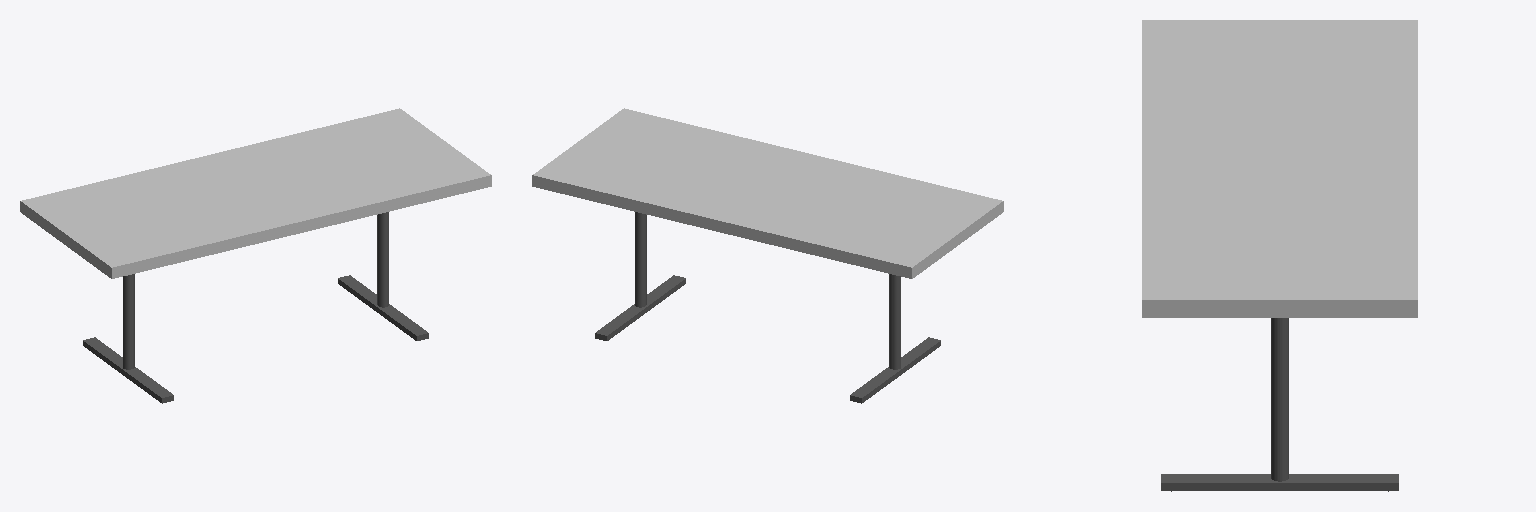
The robot description file, URDF, robot "conference_table":
<robot name="conference_table">
  <link name="base_link">
    <!-- Tabletop -->
    <!-- NOTE: Collision geometry is just bounding box around table. -->
    <collision>
      <origin xyz="0 0 0.371475"/>
      <geometry>
        <box size="1.8288 0.762 0.74295"/>
      </geometry>
    </collision>
    <visual>
      <origin xyz="0 0 0.69"/>
      <geometry>
        <box size="1.8288 0.762 0.05295"/>
      </geometry>
      <material name="gray">
        <color rgba="0.8 0.8 0.8 1.0"/>
      </material>
    </visual>
    <!-- Table Legs -->
    <visual>
      <origin xyz="0.61375 0 0.364"/>
      <geometry>
        <cylinder radius="0.025" length="0.658"/>
      </geometry>
      <material name="dark_gray">
        <color rgba="0.4 0.4 0.4 1.0"/>
      </material>
    </visual>
    <visual>
      <origin xyz="-0.61375 0 0.364"/>
      <geometry>
        <cylinder radius="0.025" length="0.658"/>
      </geometry>
      <material name="dark_gray">
        <color rgba="0.4 0.4 0.4 1.0"/>
      </material>
    </visual>
    <!-- Left table foot -->
    <visual>
      <origin xyz="0.61375 0 0.02"/>
      <geometry>
        <box size="0.06 0.66 0.025"/>
      </geometry>
      <material name="dark_gray">
        <color rgba="0.4 0.4 0.4 1.0"/>
      </material>
    </visual>
    <visual>
      <origin xyz="0.61375 0.30 0.005"/>
      <geometry>
        <cylinder radius="0.015" length="0.01"/>
      </geometry>
      <material name="dark_gray">
        <color rgba="0.4 0.4 0.4 1.0"/>
      </material>
    </visual>
    <visual>
      <origin xyz="0.61375 -0.30 0.005"/>
      <geometry>
        <cylinder radius="0.015" length="0.01"/>
      </geometry>
      <material name="dark_gray">
        <color rgba="0.4 0.4 0.4 1.0"/>
      </material>
    </visual>
    <!-- Right table foot -->
    <visual>
      <origin xyz="-0.61375 0 0.02"/>
      <geometry>
        <box size="0.06 0.66 0.025"/>
      </geometry>
      <material name="dark_gray">
        <color rgba="0.4 0.4 0.4 1.0"/>
      </material>
    </visual>
    <visual>
      <origin xyz="-0.61375 0.30 0.005"/>
      <geometry>
        <cylinder radius="0.015" length="0.01"/>
      </geometry>
      <material name="dark_gray">
        <color rgba="0.4 0.4 0.4 1.0"/>
      </material>
    </visual>
    <visual>
      <origin xyz="-0.61375 -0.30 0.005"/>
      <geometry>
        <cylinder radius="0.015" length="0.01"/>
      </geometry>
      <material name="dark_gray">
        <color rgba="0.4 0.4 0.4 1.0"/>
      </material>
    </visual>
  </link>
</robot>

--- What the picture shows (computed from the rendered views, not written in the file) ---
The picture shows the robot from 3 angles, left to right: view 1: azimuth 30°, elevation 25°; view 2: azimuth 150°, elevation 25°; view 3: azimuth 270°, elevation 25°; orthographic projection.
Robot: conference_table — 1 links, 0 joints (none); root link base_link; default pose: every joint at zero.
Visible links, largest first — view 1: base_link; view 2: base_link; view 3: base_link.
Boxes of the visible links, <box> form: base_link: <box>20,108,491,403</box>; base_link: <box>532,108,1003,403</box>; base_link: <box>1142,20,1417,491</box>.
Bounding box of the posed robot: 1.83 × 0.762 × 0.7165 m (x, y, z).
Geometry: primitives only (box / cylinder / sphere), no mesh files.